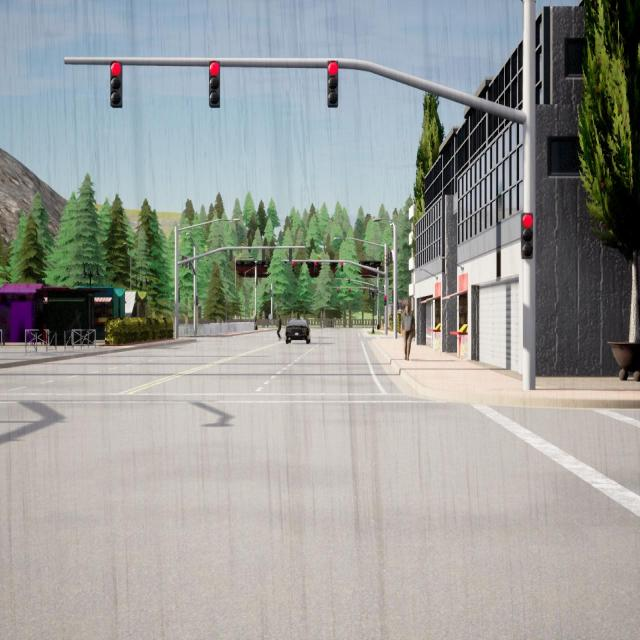Pedestrian: (401, 305, 415, 360), (276, 314, 282, 341), (253, 316, 258, 330)
Traffic_Signs: (269, 314, 272, 319)
Vehicle: (285, 319, 310, 343)
traffic_light: (521, 213, 534, 258), (111, 61, 122, 108), (209, 61, 220, 108), (328, 60, 338, 108), (289, 248, 292, 260), (388, 253, 391, 265), (182, 256, 185, 267), (185, 257, 188, 268), (262, 249, 265, 260), (314, 261, 317, 271), (230, 249, 232, 261), (392, 290, 394, 302), (386, 255, 388, 266), (390, 252, 392, 263), (348, 279, 351, 286), (196, 296, 198, 306), (341, 262, 343, 272), (384, 296, 386, 306), (292, 262, 294, 271), (179, 288, 180, 303), (189, 262, 191, 269), (256, 278, 258, 284), (337, 288, 339, 293), (349, 288, 351, 293), (363, 288, 365, 293), (270, 290, 272, 295)
